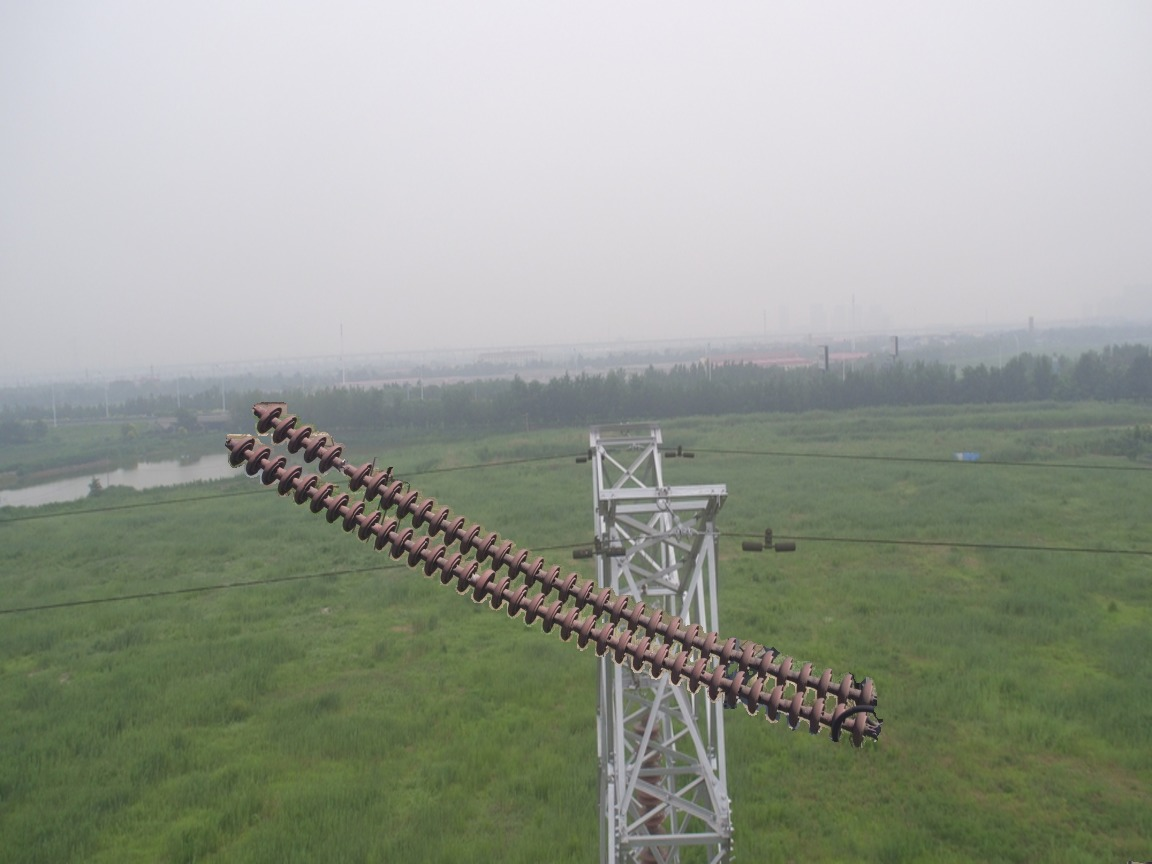defect: (316, 444, 375, 493)
